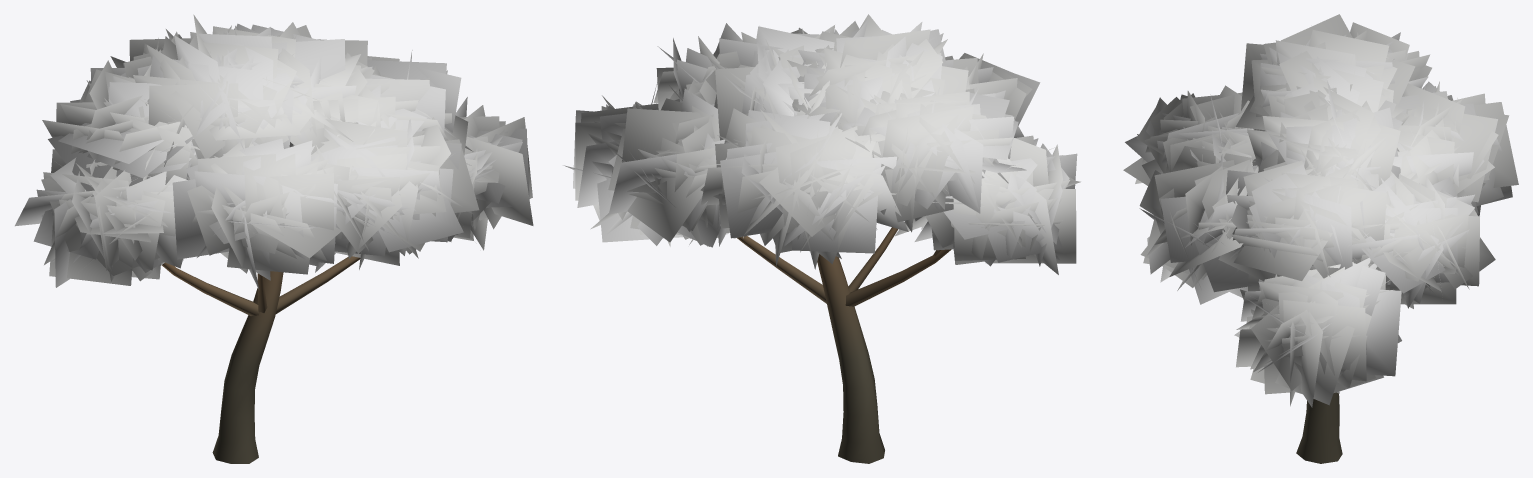
The picture shows the model from 3 angles, left to right: view 1: azimuth 30°, elevation 25°; view 2: azimuth 150°, elevation 25°; view 3: azimuth 270°, elevation 25°; orthographic projection. The views are drawn at different scales.
Visible parts, largest first — view 1: crown, trunk; view 2: crown, trunk; view 3: crown, trunk.
Boxes of the visible parts, <box> form: crown: <box>15,14,533,289</box>; trunk: <box>162,256,360,463</box>; crown: <box>563,14,1080,274</box>; trunk: <box>737,227,951,463</box>; crown: <box>1123,14,1518,407</box>; trunk: <box>1296,392,1342,463</box>.
Size of the model in its own units: 13.76 by 11.06 by 9.71.
